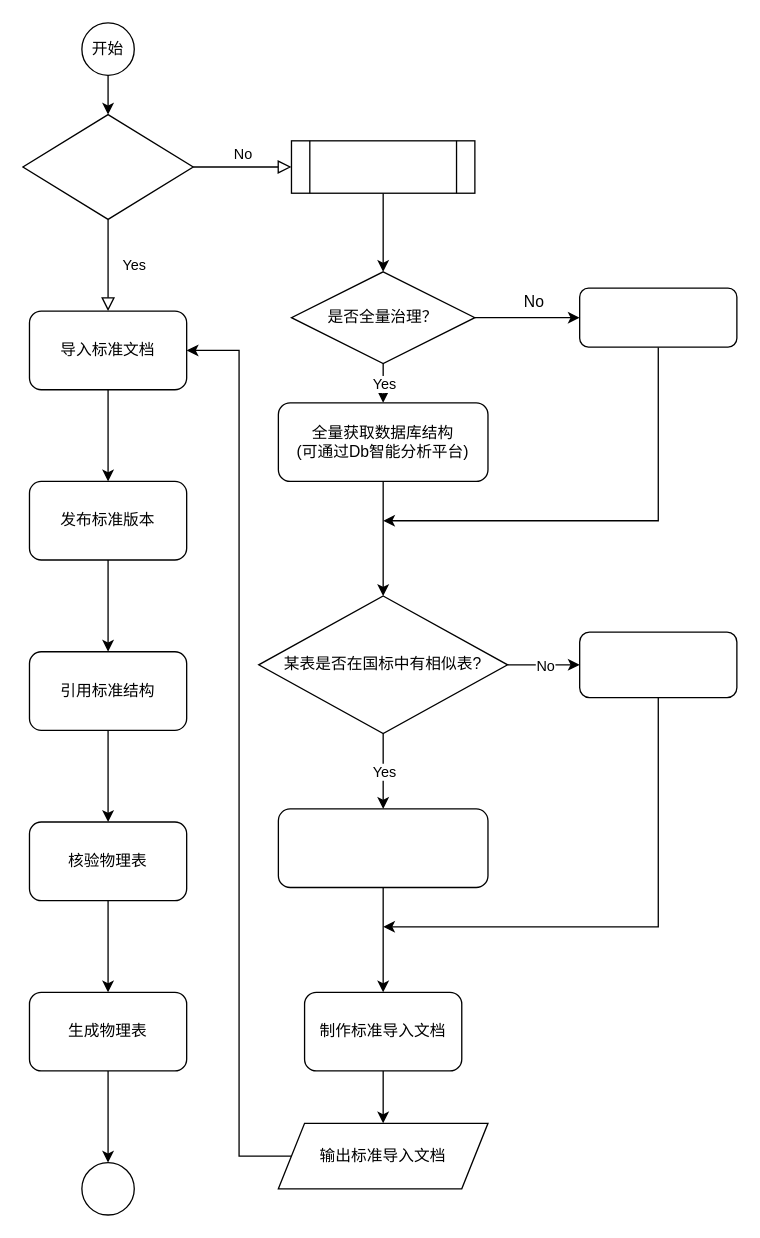
Image size: 760x1238. Some labels were removed from this diagram. The box of each missing label's shape, as (x1, y1, x2, y2) in pixels:
只治理模板核心表: (578, 287, 737, 347)
已有标准文档？: (22, 113, 193, 219)
开始制作标准文档: (290, 140, 475, 193)
标记为国标表 并按国标扩充该表字段: (277, 808, 488, 888)
标记为校标表: (578, 631, 737, 698)
结束: (81, 1161, 134, 1215)
